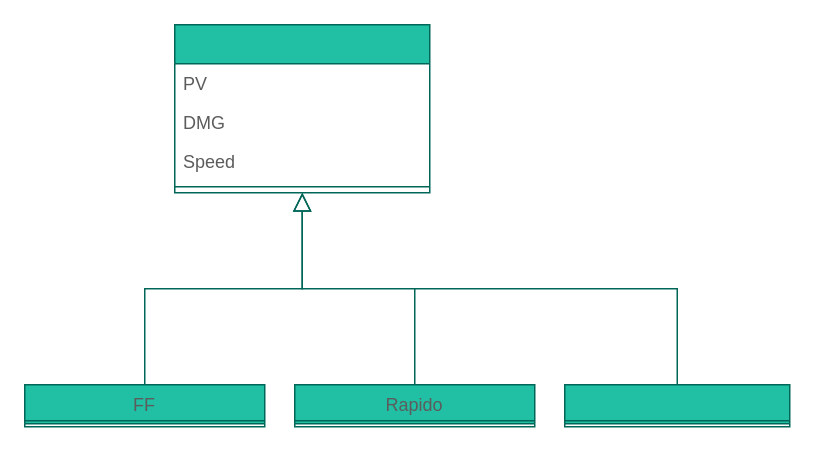
This 815x452 diagram has some shape labels left out. The shapes that lost their labels are listed below. From the top down, each one's box as (x1, y1, x2, y2) in pixels, then its label:
(173, 23, 430, 193): Ennemi
(563, 383, 790, 427): Tankos
